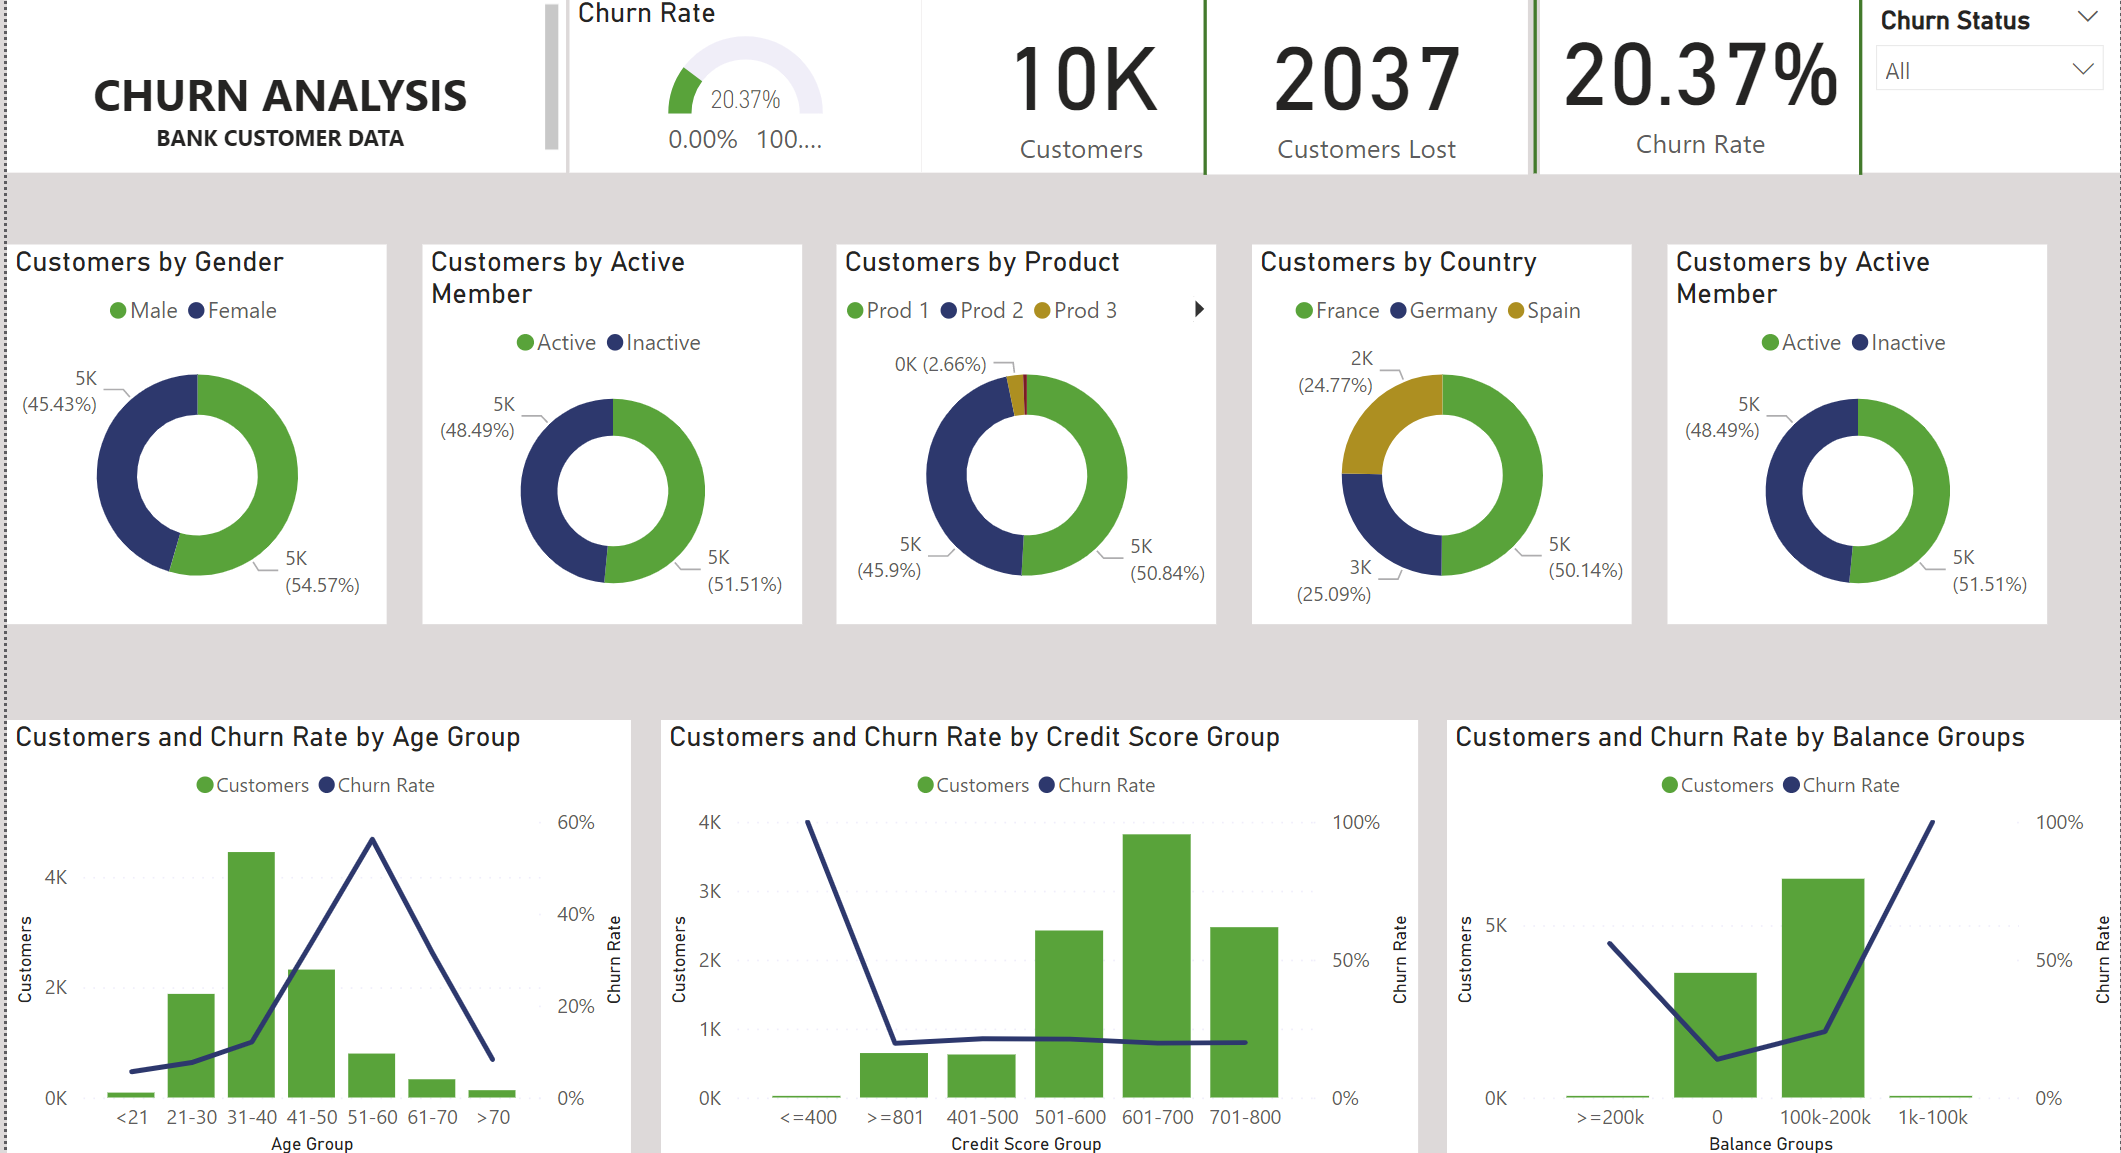

What the dashboard file says about the page in this screenshot:
{"tool":"powerbi","page":{"name":"Page 1","canvas":[1280,720],"ordinal":0},"visuals":[{"type":"card","fields":{"Values":["Bank Customer Churn Prediction.Customers"]},"box":[554.2,6,193.1,107.6],"z":0},{"type":"card","fields":{"Values":["Bank Customer Churn Prediction.Customers Lost"]},"box":[726.2,5,195.1,109.6],"z":1000},{"type":"card","fields":{"Values":["Bank Customer Churn Prediction.Churn Rate"]},"box":[928.3,0,194.1,114.7],"z":2000},{"type":"donutChart","fields":{"Category":["Bank Customer Churn Prediction.Gender"],"Y":["Bank Customer Churn Prediction.Customers"]},"box":[0,157.3,230,230],"z":3000},{"type":"donutChart","fields":{"Y":["Bank Customer Churn Prediction.Customers"],"Category":["Bank Customer Churn Prediction.Active Member"]},"box":[251.4,157.3,230,230],"z":4000},{"type":"donutChart","fields":{"Y":["Bank Customer Churn Prediction.Customers"],"Category":["Bank Customer Churn Prediction.Product "]},"box":[502.9,157.3,230,230],"z":5000},{"type":"donutChart","fields":{"Y":["Bank Customer Churn Prediction.Customers"],"Category":["Bank Customer Churn Prediction.Country"]},"box":[754.3,157.3,230,230],"z":6000},{"type":"donutChart","fields":{"Y":["Bank Customer Churn Prediction.Customers"],"Category":["Bank Customer Churn Prediction.Active Member"]},"box":[1005.8,157.3,230,230],"z":7000},{"type":"lineClusteredColumnComboChart","fields":{"Category":["Age Groups.Age Group"],"Y":["Bank Customer Churn Prediction.Customers"],"Y2":["Bank Customer Churn Prediction.Churn Rate"]},"box":[0,445.6,378.2,267.5],"z":8000},{"type":"lineClusteredColumnComboChart","fields":{"Y":["Bank Customer Churn Prediction.Customers"],"Y2":["Bank Customer Churn Prediction.Churn Rate"],"Category":["Bank Customer Churn Prediction.Credit Score Group"]},"box":[396.3,445.6,458.6,267.5],"z":9000},{"type":"lineClusteredColumnComboChart","fields":{"Y":["Bank Customer Churn Prediction.Customers"],"Y2":["Bank Customer Churn Prediction.Churn Rate"],"Category":["Acct Balance.Balance Groups"]},"box":[872,445.6,408.3,267.5],"z":10000},{"type":"slicer","fields":{"Values":["Bank Customer Churn Prediction.Churn Status"]},"box":[1122.4,6,157.9,107.6],"z":11000},{"type":"gauge","fields":{"Y":["Bank Customer Churn Prediction.Churn Rate"]},"box":[341,6,213.2,107.6],"z":12000},{"type":"textbox","box":[0,6,338.9,107.6],"z":13000},{"type":"shape","box":[625.6,6,201.2,108.6],"z":16000},{"type":"shape","box":[824.7,5,201.2,108.6],"z":17000},{"type":"shape","box":[1021.9,6,201.2,108.6],"z":18000},{"type":"shape","box":[0,0,1280.3,11.1],"z":20000}]}

Visuals, with their boxes on the page's 1280x720 design canvas (x1, y1, x2, y2). These are canvas units, not pixel positions in the 2121x1153 screenshot, which may show the page scaled, cropped or inside an application window:
card - Bank Customer Churn Prediction.Customers: (x1=554, y1=6, x2=747, y2=114)
card - Bank Customer Churn Prediction.Customers Lost: (x1=726, y1=5, x2=921, y2=115)
card - Bank Customer Churn Prediction.Churn Rate: (x1=928, y1=0, x2=1122, y2=115)
donutChart - Bank Customer Churn Prediction.Gender x Bank Customer Churn Prediction.Customers: (x1=0, y1=157, x2=230, y2=387)
donutChart - Bank Customer Churn Prediction.Customers x Bank Customer Churn Prediction.Active Member: (x1=251, y1=157, x2=481, y2=387)
donutChart - Bank Customer Churn Prediction.Customers x Bank Customer Churn Prediction.Product : (x1=503, y1=157, x2=733, y2=387)
donutChart - Bank Customer Churn Prediction.Customers x Bank Customer Churn Prediction.Country: (x1=754, y1=157, x2=984, y2=387)
donutChart - Bank Customer Churn Prediction.Customers x Bank Customer Churn Prediction.Active Member: (x1=1006, y1=157, x2=1236, y2=387)
lineClusteredColumnComboChart - Age Groups.Age Group x Bank Customer Churn Prediction.Customers: (x1=0, y1=446, x2=378, y2=713)
lineClusteredColumnComboChart - Bank Customer Churn Prediction.Customers x Bank Customer Churn Prediction.Churn Rate: (x1=396, y1=446, x2=855, y2=713)
lineClusteredColumnComboChart - Bank Customer Churn Prediction.Customers x Bank Customer Churn Prediction.Churn Rate: (x1=872, y1=446, x2=1280, y2=713)
slicer - Bank Customer Churn Prediction.Churn Status: (x1=1122, y1=6, x2=1280, y2=114)
gauge - Bank Customer Churn Prediction.Churn Rate: (x1=341, y1=6, x2=554, y2=114)
textbox: (x1=0, y1=6, x2=339, y2=114)
shape: (x1=626, y1=6, x2=827, y2=115)
shape: (x1=825, y1=5, x2=1026, y2=114)
shape: (x1=1022, y1=6, x2=1223, y2=115)
shape: (x1=0, y1=0, x2=1280, y2=11)
